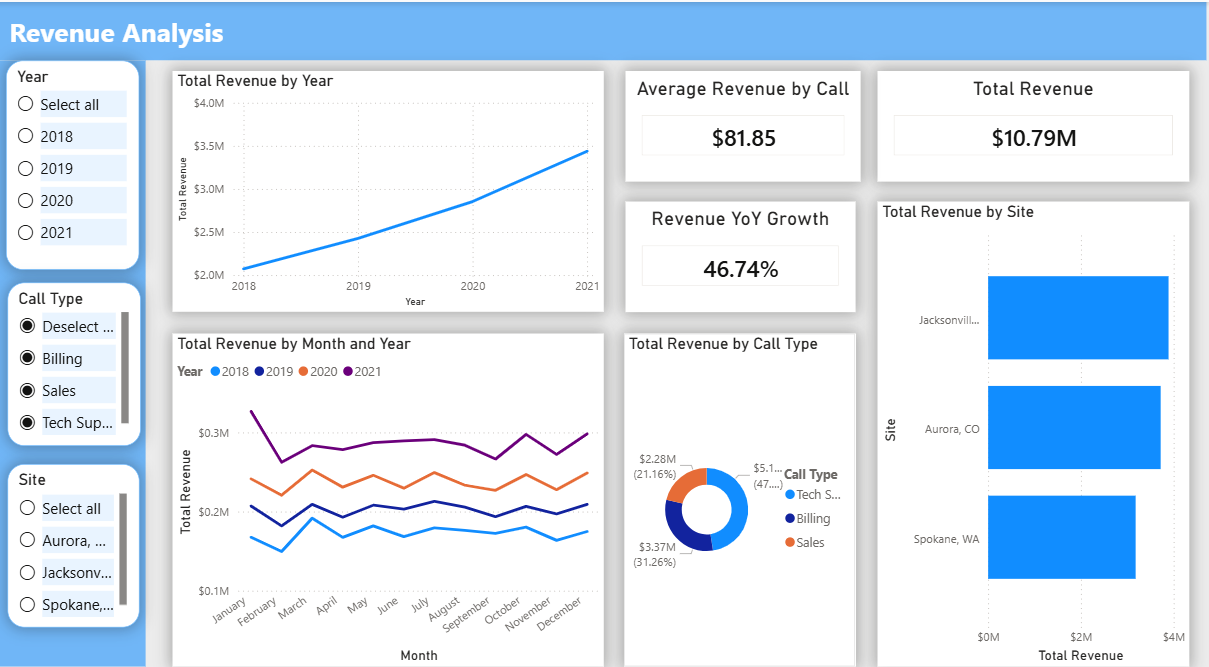

The dashboard page shown, as its layout file describes it:
{"tool":"powerbi","page":{"name":"Revenue ","canvas":[1280,720],"ordinal":2},"visuals":[{"type":"shape","box":[0,0,1279.4,61.8],"z":0},{"type":"cardVisual","title":"Revenue YoY Growth","fields":{"Data":["Model Measures.Revenue YoY Growth %"]},"box":[663.3,211.7,243.8,117.2],"z":1000},{"type":"shape","box":[0,61.8,154.4,642.6],"z":2000},{"type":"listSlicer","fields":{"Values":["Date.Year"]},"box":[5.9,61.8,141.2,222.1],"z":3000},{"type":"listSlicer","fields":{"Values":["Dim Call Types.Call Type"]},"box":[7.4,297.1,141.2,173.5],"z":4000},{"type":"listSlicer","fields":{"Values":["Dim Employees.Site"]},"box":[7.4,489.7,139.7,173.5],"z":5000},{"type":"cardVisual","title":"Total Revenue ","fields":{"Data":["Model Measures.Total Revenue"]},"box":[929.8,73.7,330.7,117.2],"z":6000},{"type":"cardVisual","title":"Average Revenue by Call","fields":{"Data":["Model Measures.Average Revenue by Call"]},"box":[663.3,73.7,249.5,117.2],"z":7000},{"type":"lineChart","fields":{"Y":["Model Measures.Total Revenue"],"Category":["Date.Year"]},"box":[183.3,73.7,457.3,255.1],"z":8000},{"type":"lineChart","fields":{"Category":["Date.Month"],"Y":["Model Measures.Total Revenue"],"Series":["Date.Year"]},"box":[183.3,351.5,457.3,353.4],"z":9000},{"type":"donutChart","fields":{"Category":["Dim Charges.Call Type"],"Y":["Model Measures.Total Revenue"]},"box":[661.4,351.5,245.7,353.4],"z":10000},{"type":"clusteredBarChart","fields":{"Y":["Model Measures.Total Revenue"],"Category":["Dim Employees.Site"]},"box":[929.8,211.7,330.7,493.2],"z":11000}]}

Visuals, with their boxes in screenshot pixels (x1, y1, x2, y2), scaled from the page's 1280x720 canvas onto the 1209x667 screenshot:
shape: 0:0:1208:57
"Revenue YoY Growth" cardVisual: 627:196:857:305
shape: 0:57:146:653
listSlicer - Date.Year: 6:57:139:263
listSlicer - Dim Call Types.Call Type: 7:275:140:436
listSlicer - Dim Employees.Site: 7:454:139:614
"Total Revenue " cardVisual: 878:68:1191:177
"Average Revenue by Call" cardVisual: 627:68:862:177
lineChart - Model Measures.Total Revenue x Date.Year: 173:68:605:305
lineChart - Date.Month x Model Measures.Total Revenue: 173:326:605:653
donutChart - Dim Charges.Call Type x Model Measures.Total Revenue: 625:326:857:653
clusteredBarChart - Model Measures.Total Revenue x Dim Employees.Site: 878:196:1191:653
